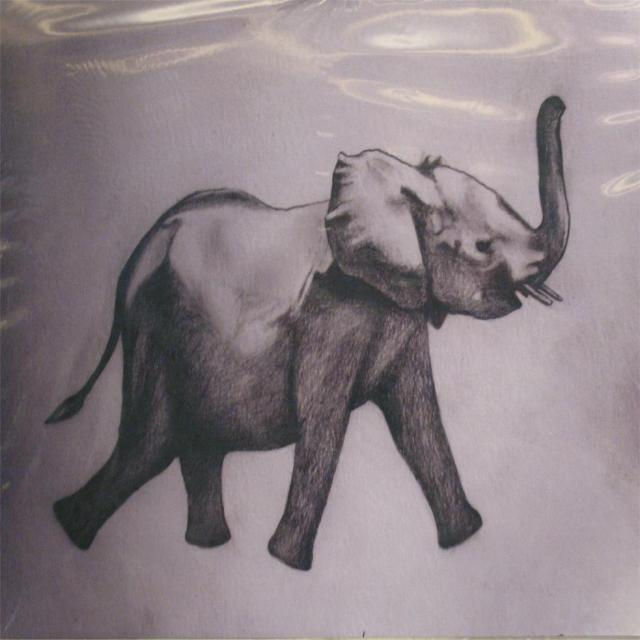elephant: (46, 92, 570, 571)
